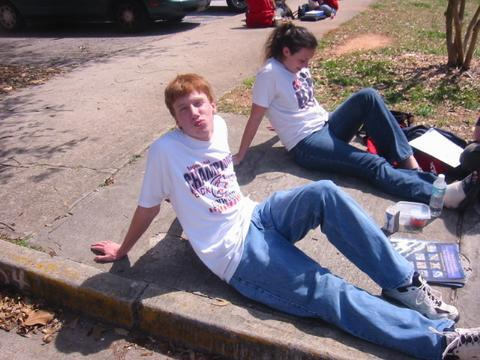person: (92, 72, 480, 360)
